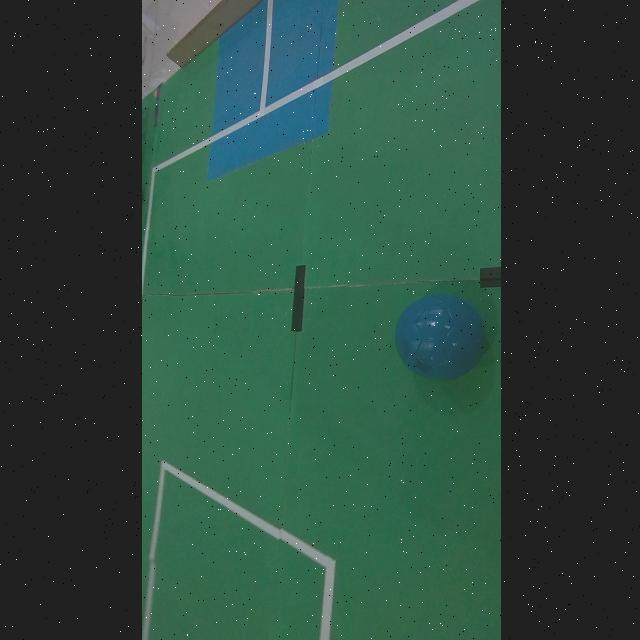B: (394, 294, 487, 380)
